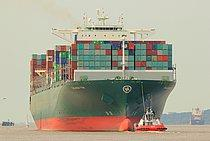Ship: (26, 5, 182, 137)
